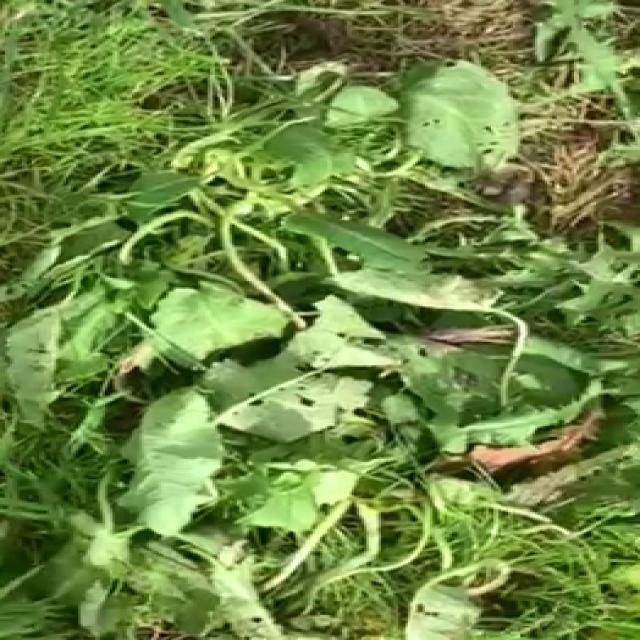organic waste: (0, 12, 640, 406), (0, 292, 640, 640)
